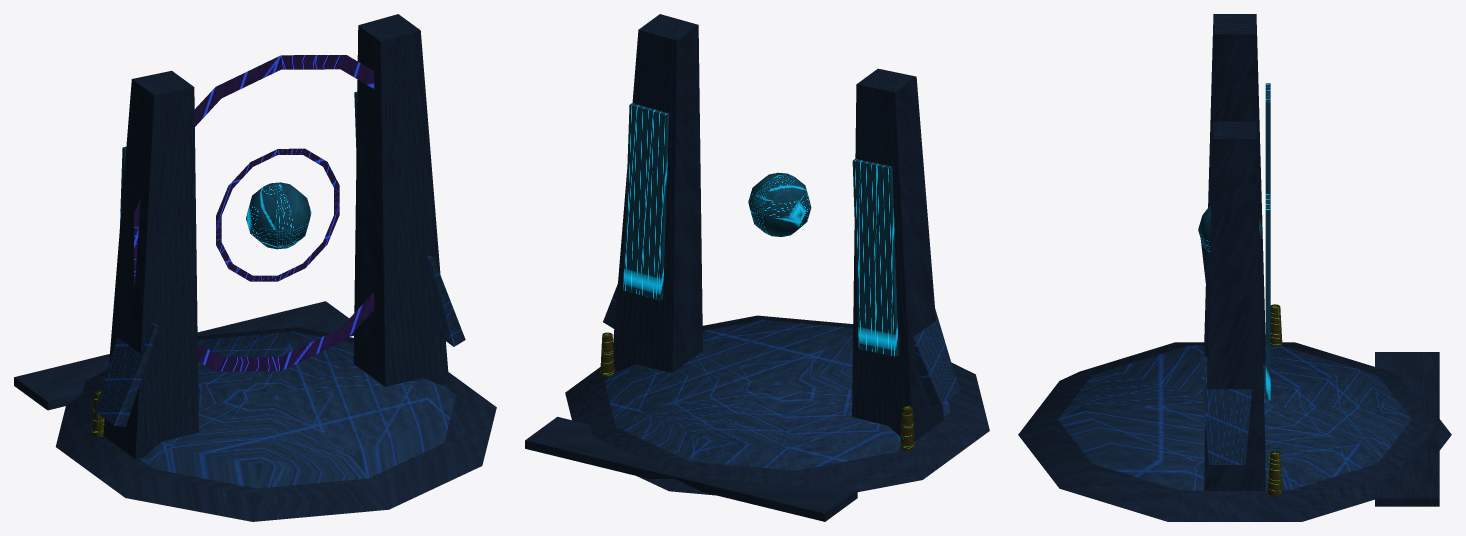
Rendered from command-horizon-arrival-gate-lod2-textured.glb.
3 renders of one model, left to right at view 1: azimuth 30°, elevation 25°; view 2: azimuth 150°, elevation 25°; view 3: azimuth 270°, elevation 25°, orthographic. The views are drawn at different scales.
Visible parts, largest first — view 1: arrival-tier, arrival-pylon-1, arrival-pylon--1, arrival-plinth, arrival-arch, arrival-front-step, arrival-core, arrival-fin--1, arrival-orbit-0, arrival-fin-1; view 2: arrival-tier, arrival-pylon-1, arrival-pylon--1, arrival-plinth, arrival-front-step, arrival-panel--1, arrival-panel-1, arrival-core, arrival-fin--1, arrival-beacon--1, arrival-beacon-1; view 3: arrival-tier, arrival-plinth, arrival-pylon-1, arrival-pylon--1, arrival-front-step, arrival-fin-1, arrival-panel-1, arrival-panel--1, arrival-beacon-1.
Part boxes in pixels (<box>): arrival-tier: <box>139,331,455,488</box>; arrival-pylon-1: <box>353,14,449,386</box>; arrival-pylon--1: <box>103,70,198,458</box>; arrival-plinth: <box>55,327,496,521</box>; arrival-arch: <box>134,55,374,371</box>; arrival-front-step: <box>14,301,353,410</box>; arrival-core: <box>246,182,311,249</box>; arrival-fin--1: <box>95,323,158,426</box>; arrival-orbit-0: <box>216,148,339,281</box>; arrival-fin-1: <box>426,255,465,346</box>; arrival-tier: <box>604,320,950,470</box>; arrival-pylon-1: <box>613,14,702,372</box>; arrival-pylon--1: <box>852,68,943,440</box>; arrival-plinth: <box>565,315,989,495</box>; arrival-front-step: <box>525,416,857,521</box>; arrival-panel--1: <box>852,159,898,356</box>; arrival-panel-1: <box>623,103,669,300</box>; arrival-core: <box>748,172,811,236</box>; arrival-fin--1: <box>913,308,959,405</box>; arrival-beacon--1: <box>900,405,914,450</box>; arrival-beacon-1: <box>600,332,614,377</box>; arrival-tier: <box>1058,345,1411,490</box>; arrival-plinth: <box>1018,342,1451,521</box>; arrival-pylon-1: <box>1204,121,1265,491</box>; arrival-pylon--1: <box>1204,14,1265,362</box>; arrival-front-step: <box>1375,352,1439,506</box>; arrival-fin-1: <box>1199,357,1252,464</box>; arrival-panel-1: <box>1265,193,1270,400</box>; arrival-panel--1: <box>1265,83,1270,193</box>; arrival-beacon-1: <box>1267,450,1282,495</box>.
Size of the model in its own units: 5.36 by 5.18 by 5.64.
5 materials, 5 textured.
